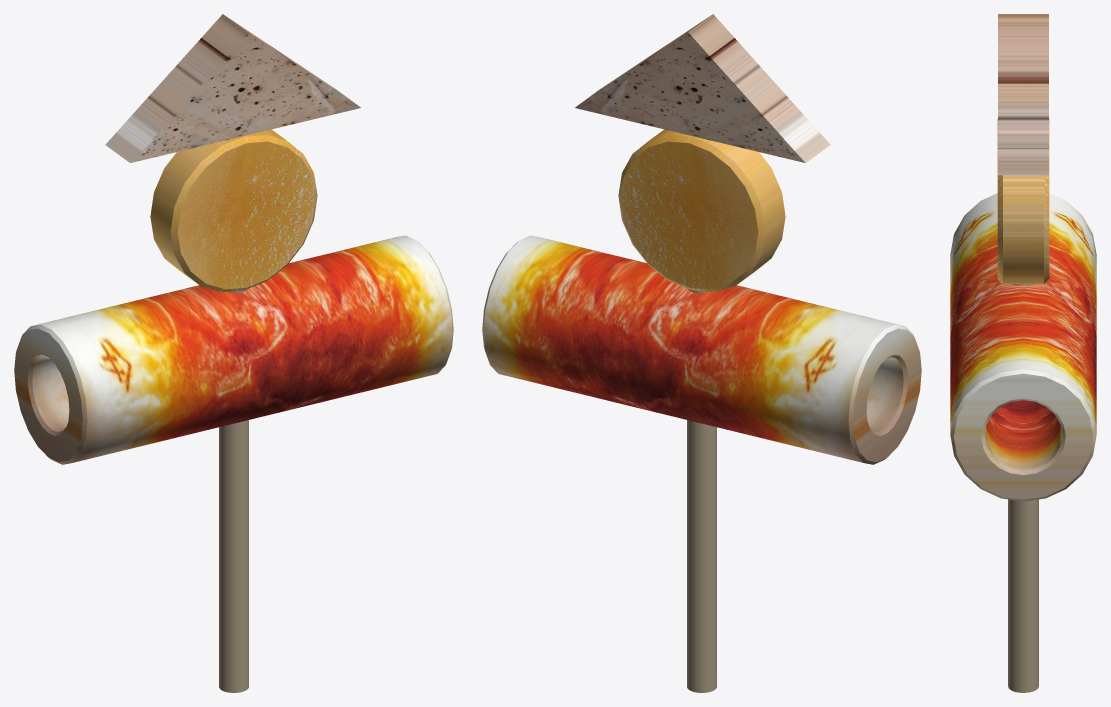
Rendered from ODEN.fbx.
3 renders of one model, left to right at view 1: azimuth 30°, elevation 25°; view 2: azimuth 150°, elevation 25°; view 3: azimuth 270°, elevation 25°, orthographic.
Parts seen in each view (by area): view 1: pCylinder6; view 2: pCylinder6; view 3: pCylinder6.
Boxes of the visible parts, x1,y1,x2,y2 form: pCylinder6: [14, 14, 453, 692]; pCylinder6: [482, 14, 921, 692]; pCylinder6: [950, 14, 1096, 692].
Size of the model in its own units: 5.05 by 8.62 by 1.7.
Materials: 2 (1 with a texture image).
